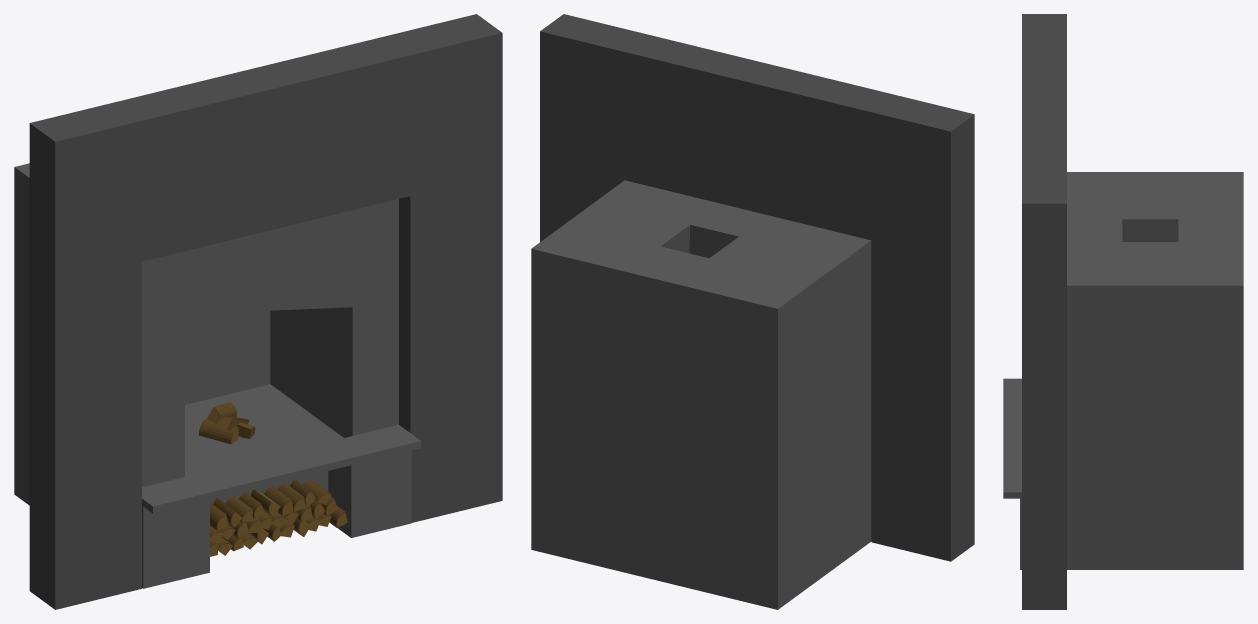
File: FirePlace_1.fbx
3 views of the same model, side by side, from view 1: azimuth 30°, elevation 25°; view 2: azimuth 150°, elevation 25°; view 3: azimuth 270°, elevation 25° (orthographic). The views are drawn at different scales.
Parts seen in each view (by area): view 1: Cube.043; view 2: Cube.043; view 3: Cube.043.
Boxes of the visible parts, left/top/right/bottom form: Cube.043: left=14, top=14, right=502, bottom=609; Cube.043: left=531, top=14, right=974, bottom=609; Cube.043: left=1003, top=14, right=1243, bottom=609.
Size of the model in its own units: 400 by 400 by 215.
